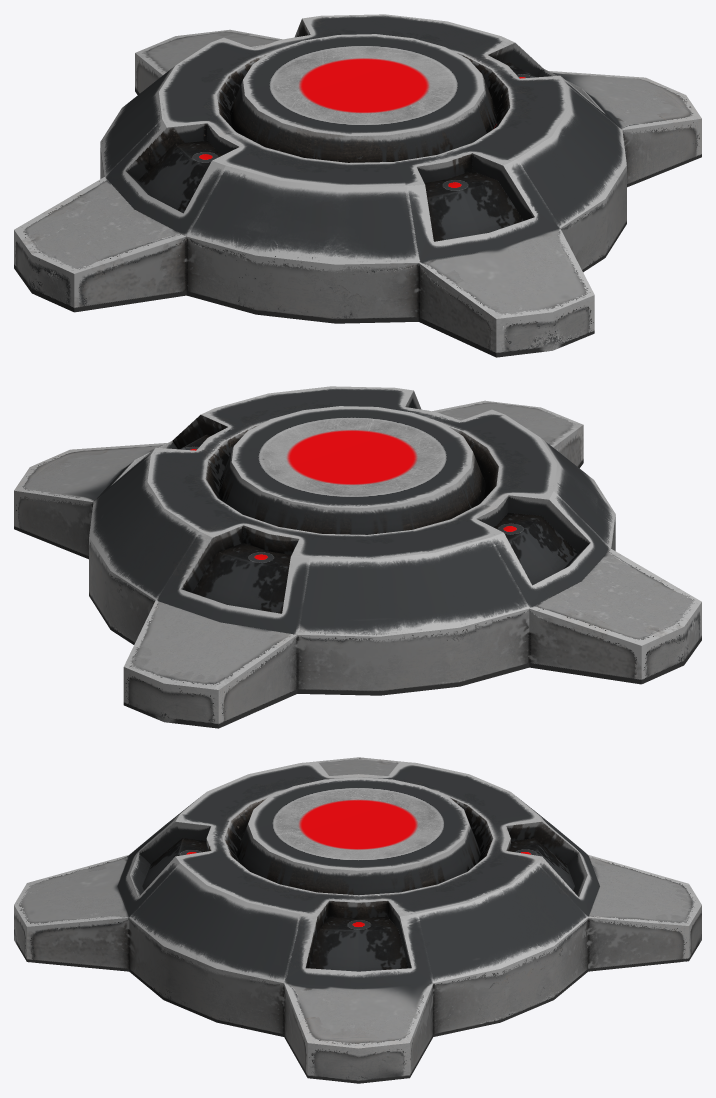
The model's file is landmine.Fbx.
3 views of the same model, one above another, from view 1: azimuth 30°, elevation 25°; view 2: azimuth 150°, elevation 25°; view 3: azimuth 270°, elevation 25° (orthographic). The views are drawn at different scales.
Visible parts, largest first — view 1: pCylinder1; view 2: pCylinder1; view 3: pCylinder1.
Boxes of the visible parts, bbox=[...] form: pCylinder1: bbox=[14, 14, 701, 357]; pCylinder1: bbox=[14, 386, 701, 728]; pCylinder1: bbox=[14, 757, 701, 1083].
Size of the model in its own units: 1174 by 218 by 1172.
